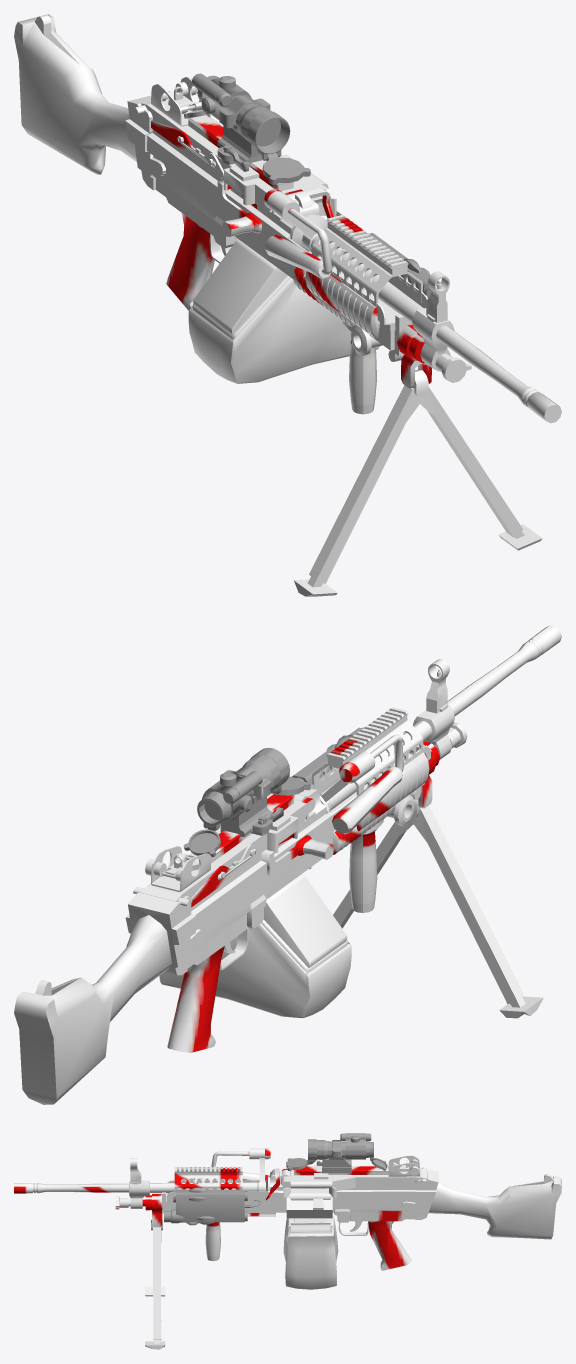
3 views of the same model, one above another, from view 1: azimuth 30°, elevation 25°; view 2: azimuth 150°, elevation 25°; view 3: azimuth 270°, elevation 25° (orthographic). The views are drawn at different scales.
Visible parts, largest first — view 1: MK48_3, MK48_2, MK48_1, MK48_4; view 2: MK48_3, MK48_2, MK48_1, MK48_4, MK48_5; view 3: MK48_3, MK48_2, MK48_5, MK48_4, MK48_1.
Boxes of the visible parts, box(x1,y1,x2,y2) form: MK48_3: box(14, 14, 561, 596); MK48_2: box(188, 210, 379, 383); MK48_1: box(293, 215, 422, 414); MK48_4: box(184, 73, 310, 184); MK48_3: box(14, 625, 561, 1104); MK48_2: box(159, 873, 351, 1018); MK48_1: box(309, 707, 429, 912); MK48_4: box(183, 747, 310, 856); MK48_5: box(292, 727, 363, 784); MK48_3: box(14, 1148, 561, 1349); MK48_2: box(283, 1216, 338, 1289); MK48_5: box(164, 1187, 260, 1224); MK48_4: box(286, 1133, 387, 1173); MK48_1: box(174, 1166, 275, 1261).
Bounding box in the file's own units: 25.93 × 37.83 × 102.
